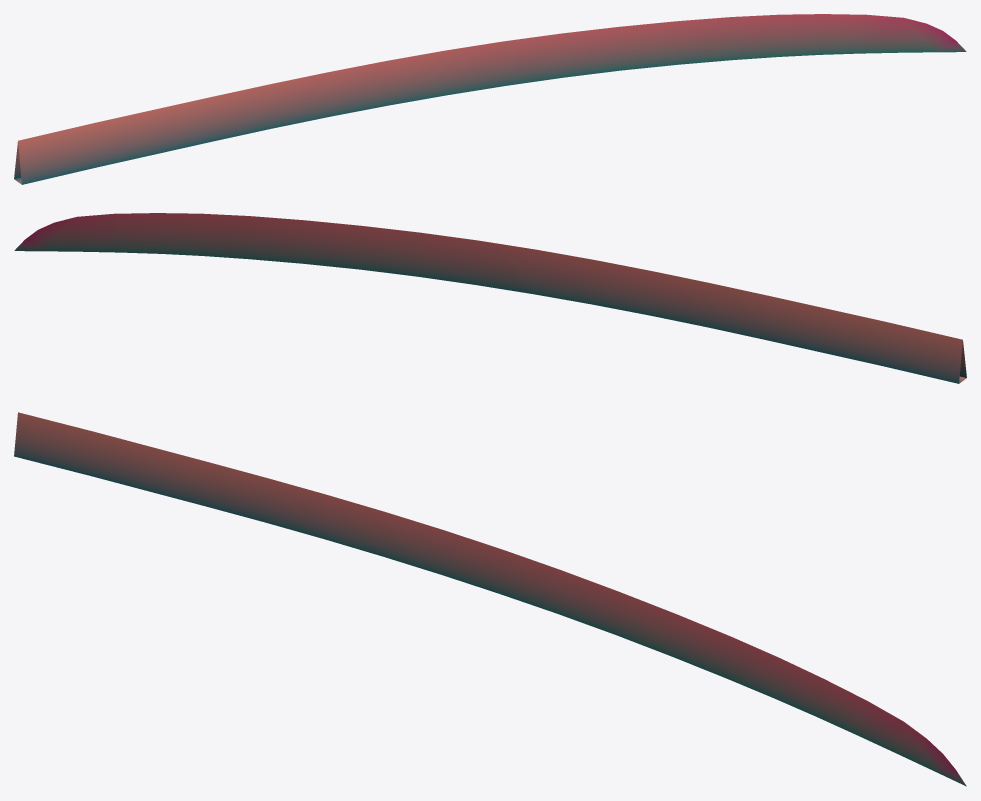
File: Eff_Unagi_Weapon01.fbx
3 views of the same model, one above another, from view 1: azimuth 30°, elevation 25°; view 2: azimuth 150°, elevation 25°; view 3: azimuth 330°, elevation 25° (orthographic).
Parts seen in each view (by area): view 1: Eff_Unagi_Weapon01; view 2: Eff_Unagi_Weapon01; view 3: Eff_Unagi_Weapon01.
Part boxes in pixels (<box>): Eff_Unagi_Weapon01: <box>14,14,966,184</box>; Eff_Unagi_Weapon01: <box>14,213,966,383</box>; Eff_Unagi_Weapon01: <box>14,412,966,786</box>.
Size of the model in its own units: 2.1 by 0.3016 by 0.0306.
